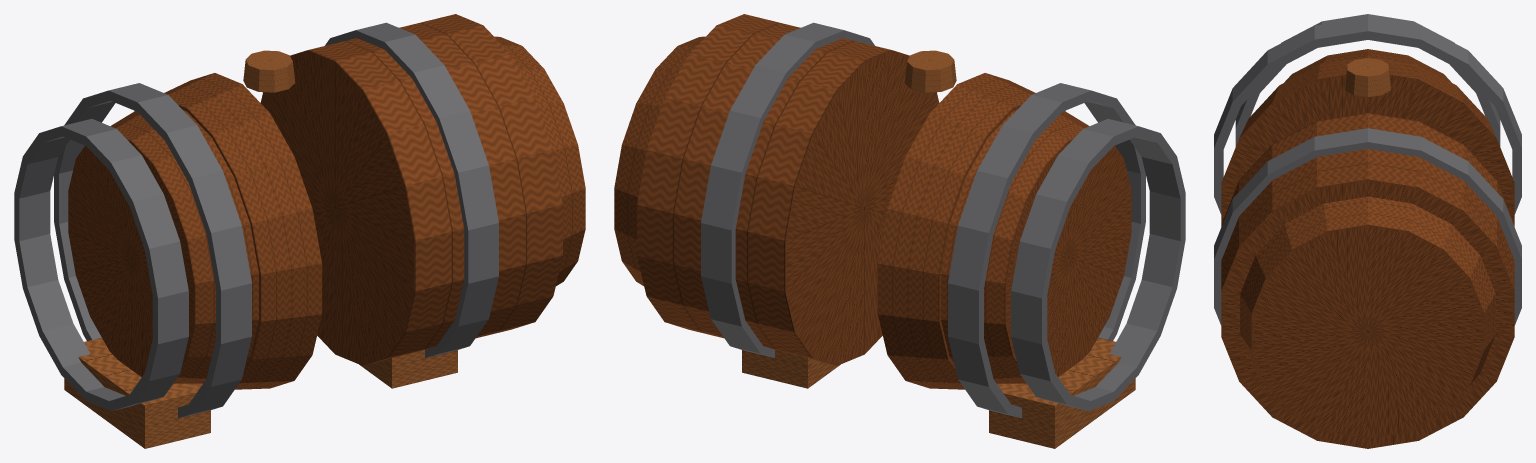
The model's file is oak-barrel.glb.
The picture shows the model from 3 angles, left to right: view 1: azimuth 30°, elevation 25°; view 2: azimuth 150°, elevation 25°; view 3: azimuth 270°, elevation 25°; orthographic projection. The views are drawn at different scales.
Visible parts, largest first — view 1: oak-barrel-oak, oak-barrel-dark, oak-barrel-timber; view 2: oak-barrel-oak, oak-barrel-dark, oak-barrel-timber; view 3: oak-barrel-oak, oak-barrel-dark, oak-barrel-timber.
Part boxes in pixels (x1,y1,x2,y2): oak-barrel-oak: (68, 14, 585, 389); oak-barrel-dark: (14, 22, 498, 418); oak-barrel-timber: (64, 50, 457, 448); oak-barrel-oak: (614, 14, 1131, 389); oak-barrel-dark: (701, 22, 1185, 418); oak-barrel-timber: (742, 50, 1135, 448); oak-barrel-oak: (1221, 49, 1514, 448); oak-barrel-dark: (1214, 14, 1521, 325); oak-barrel-timber: (1345, 58, 1390, 97).
Size of the model in its own units: 1.06 by 0.74 by 0.7032.
3 materials, 2 textured.
